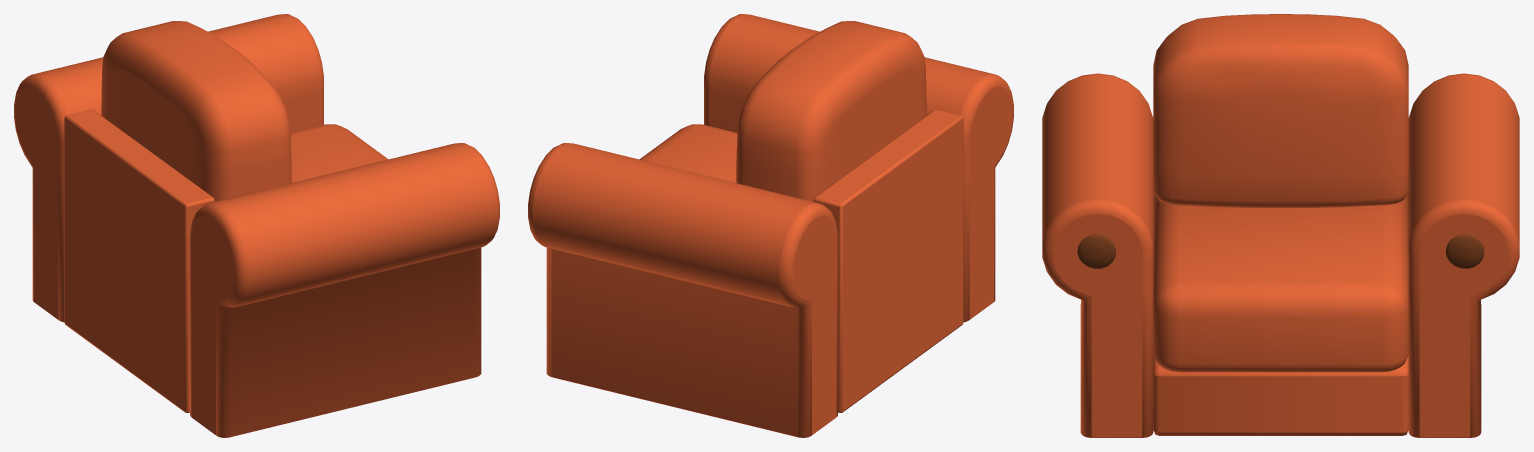
The model's file is Single_Couch.glb.
The picture shows the model from 3 angles, left to right: view 1: azimuth 30°, elevation 25°; view 2: azimuth 150°, elevation 25°; view 3: azimuth 270°, elevation 25°; orthographic projection. The views are drawn at different scales.
Visible parts, largest first — view 1: Chair2; view 2: Chair2; view 3: Chair2.
Boxes of the visible parts, <box> form: Chair2: <box>14,14,499,437</box>; Chair2: <box>528,14,1013,437</box>; Chair2: <box>1042,14,1519,437</box>.
Size of the model in its own units: 1.16 by 1.2 by 1.67.
2 materials, 1 textured.
